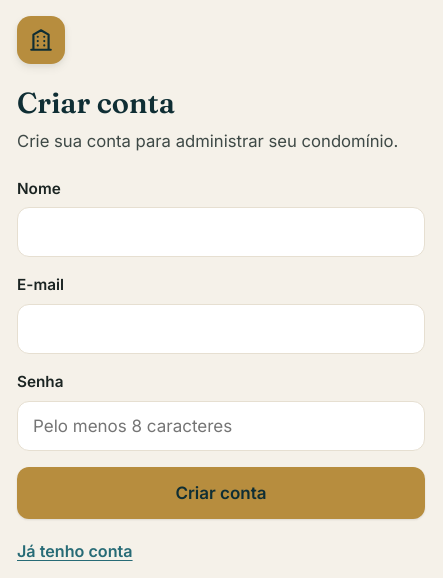
Test: SignUpScreen › signs up and shows where the link was sent
The width and height of the screenshot is (443, 578).
In the field labelled "Nome": (221, 232) [17, 207, 425, 257], type "Ana Souza"
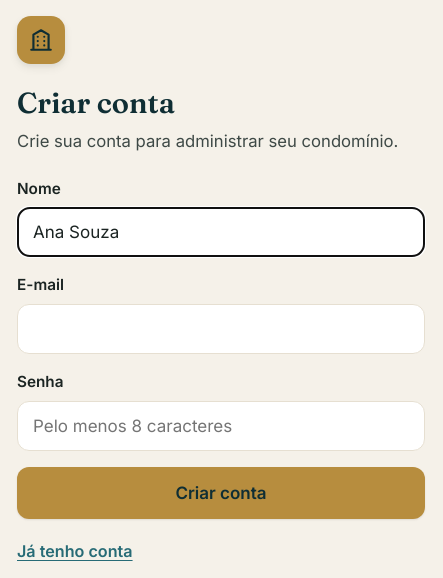
In the field labelled "E-mail": (221, 329) [17, 304, 425, 354], type "Ana@Exemplo.com"
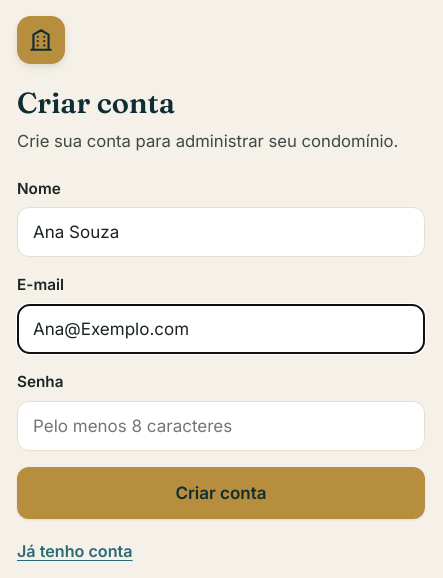
In the password field labelled "Senha": (221, 426) [17, 401, 425, 451], type "segredo123"
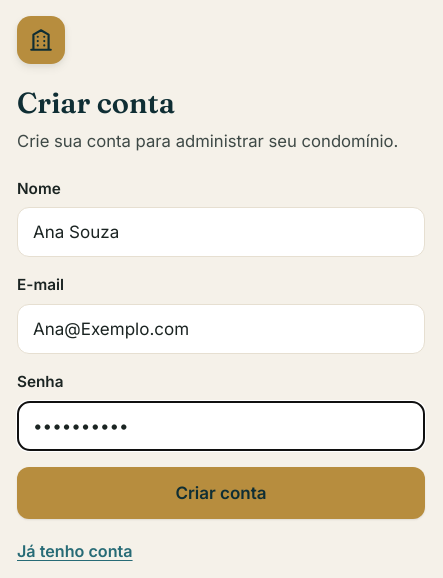
Click the button "Criar conta": click(221, 493) [17, 467, 425, 519]
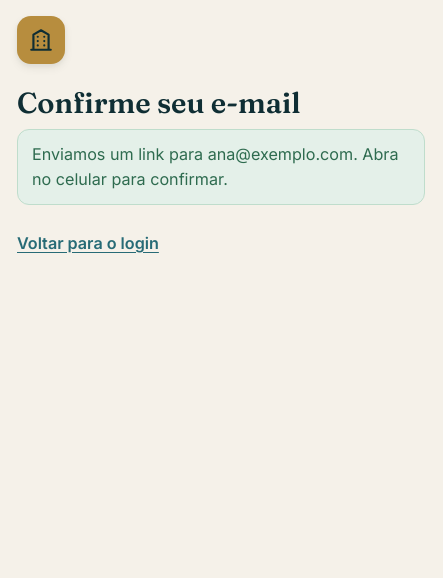
Check: the text "Enviamos um link para ana@exemplo.com. Abra no celular para confirmar." is shown, box [17, 129, 425, 205]
